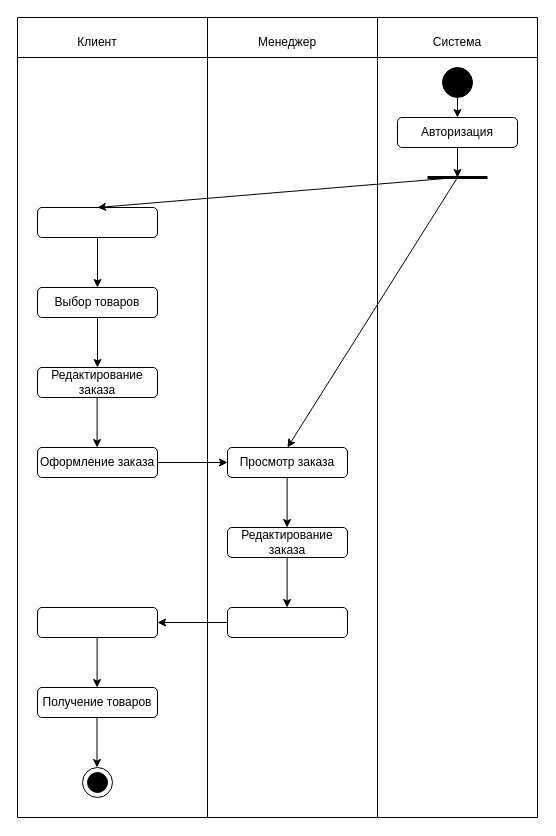
Image size: 556x836. Some labels were removed from this diagram. The centre of each missing label's shape, as x and y in pixels:
"Оформление заказа и талона" belongs at (x=287, y=622).
"Получение талона" belongs at (x=97, y=622).
"Просмотр товаров" belongs at (x=97, y=222).
